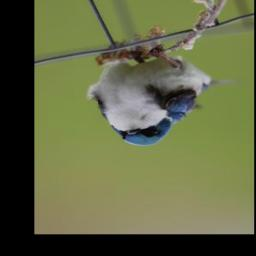Swallow: (85, 44, 246, 147)
